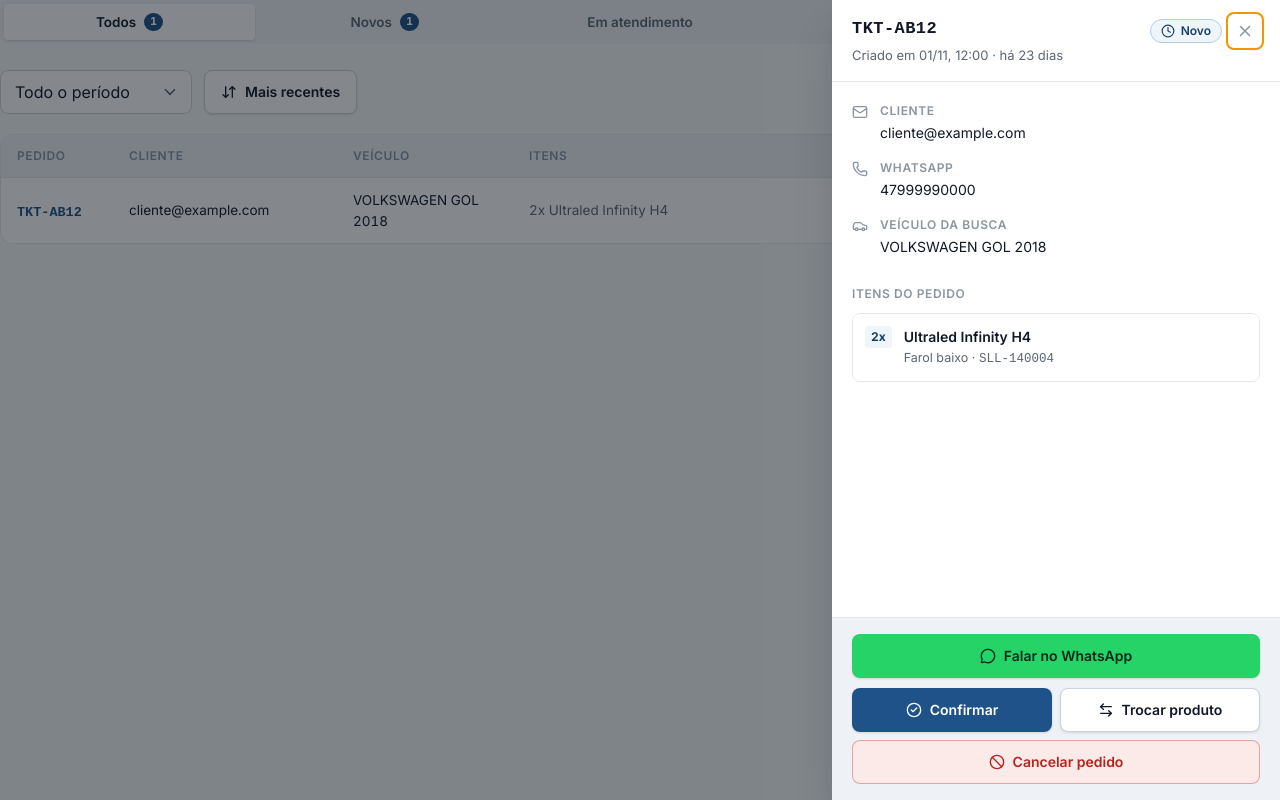
Test case: DetalheDoPedido › desfaz a mudança otimista quando a API recusa
The image size is (1280, 800).
Expected: the dialog is shown, [832, 0, 1279, 799]
What coordinates should you click on to do the following:
click the button "Confirmar"
I would click on:
 (952, 710)
Its box is [852, 688, 1052, 732].
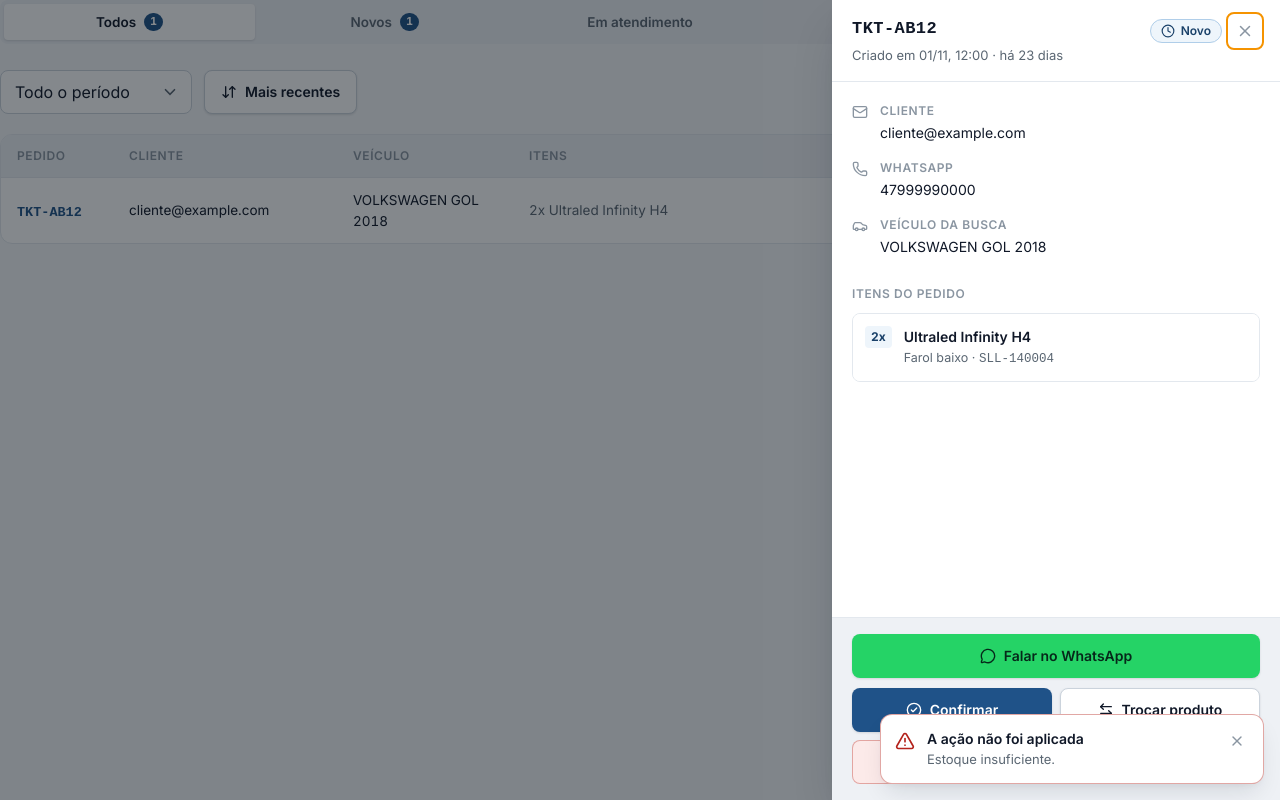
Expected: the text "Estoque insuficiente." is shown, [927, 751, 1055, 767]
Expected: the text "A ação não foi aplicada" is shown, [927, 730, 1084, 747]
